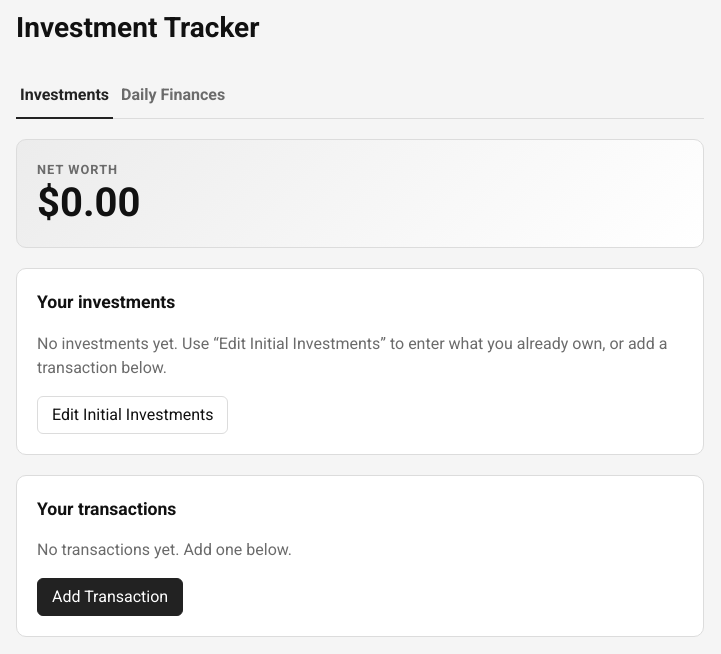
Test case: the daily finances tab › deletes a financial transaction after confirming
Click the tab "Daily Finances".
click(173, 96)  # box [117,73,229,119]
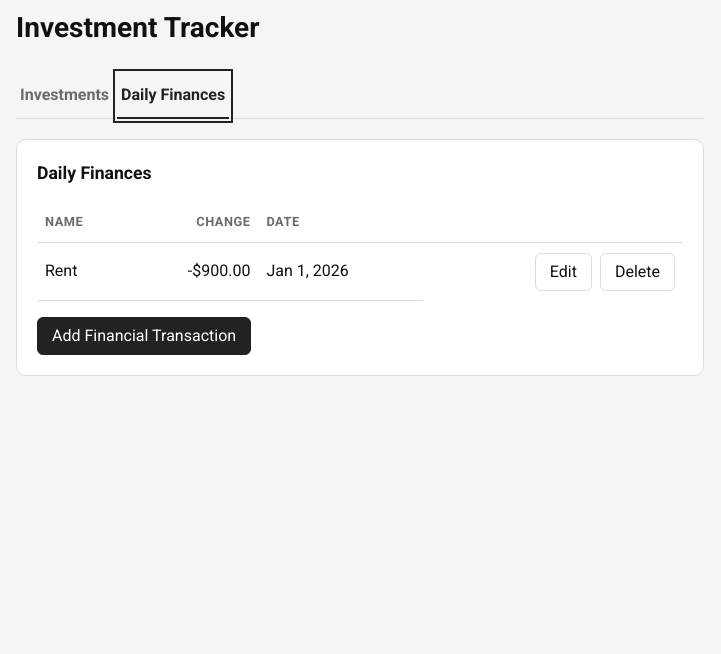
expect the text "Rent" is shown: met, box [37,242,127,301]
Click the button with aria-label "Delete financial transaction for Rent".
click(637, 272)  # box [600,253,675,291]
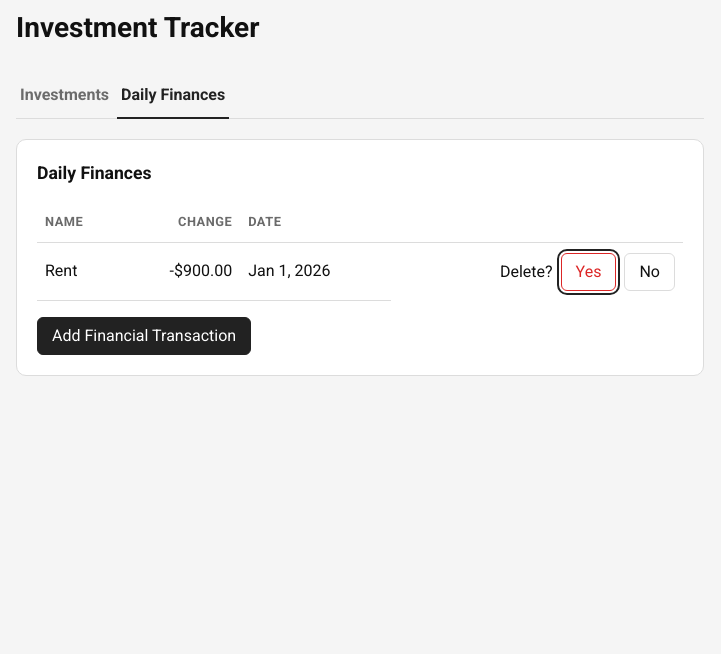
Click the button with aria-label "Confirm delete financial transaction for Rent".
click(588, 272)  # box [561,253,616,291]
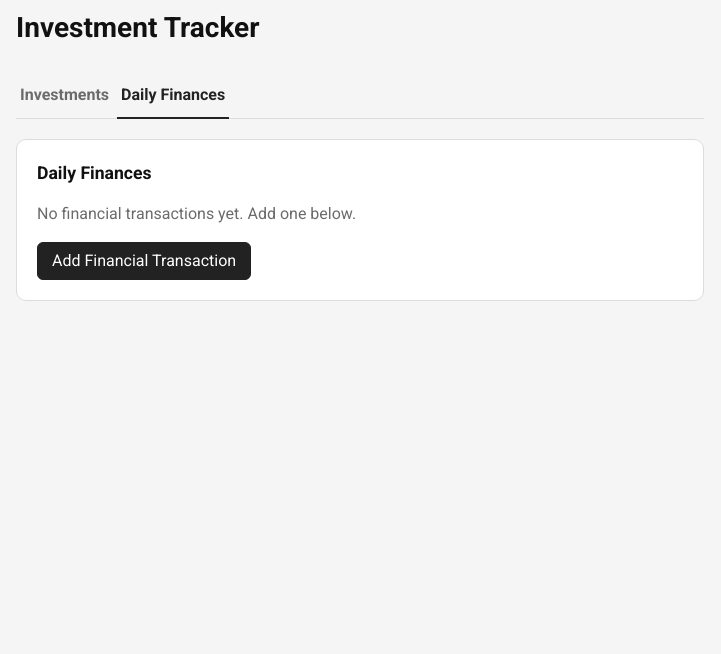
expect the text "No financial transactions yet. Add one below." is shown: met, box [37,204,356,223]
